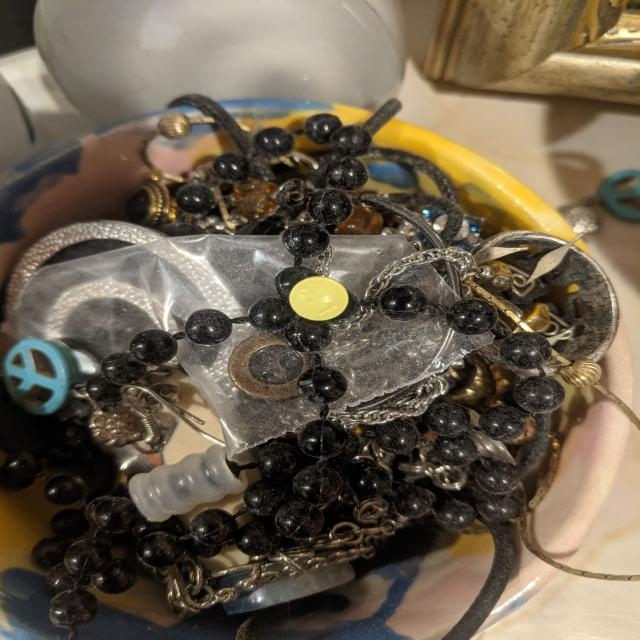non-organic waste: (288, 276, 350, 322)
